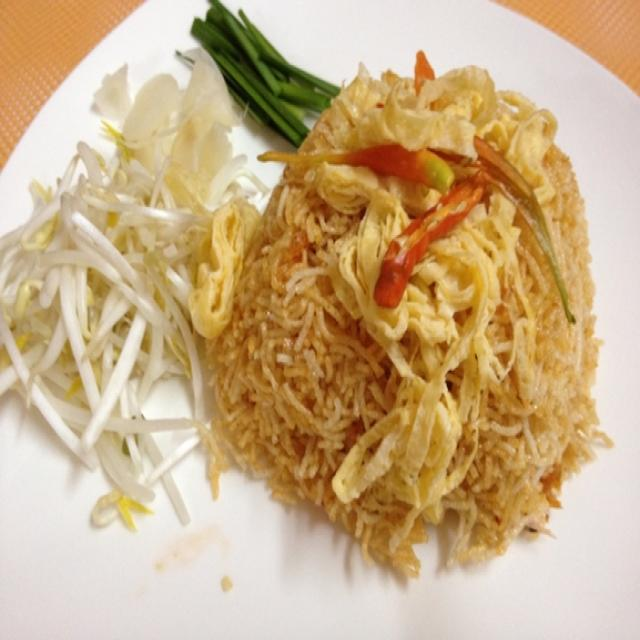面条主食: (5, 18, 619, 602)
